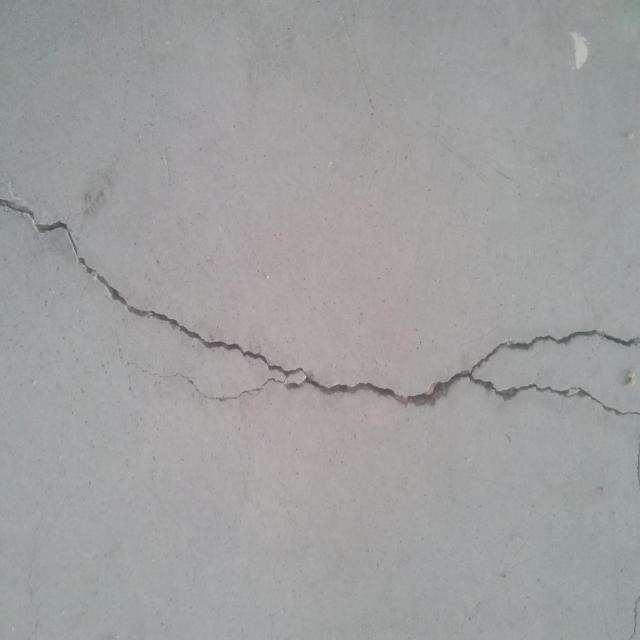SurfaceCrack: (0, 158, 639, 439)
